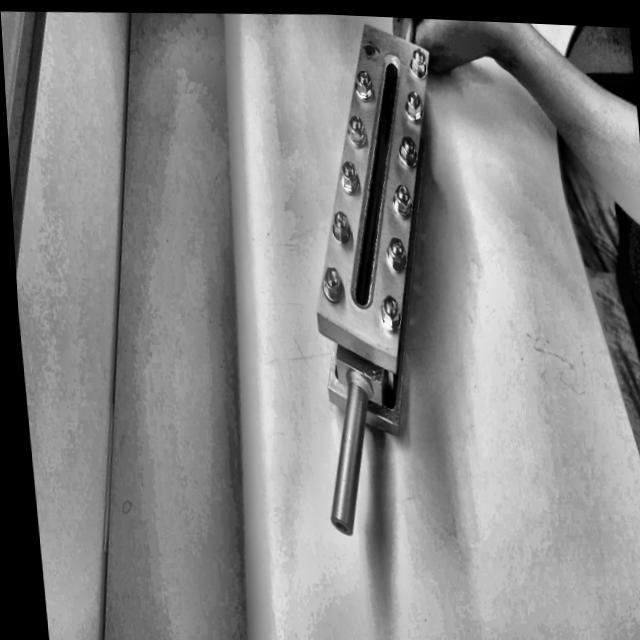ShuiWeiQi_11: (281, 10, 476, 545)
